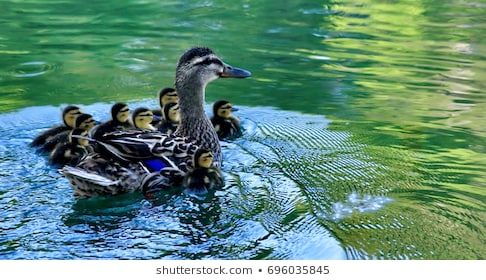duck: (75, 39, 295, 234), (206, 96, 261, 162), (183, 146, 239, 201)
